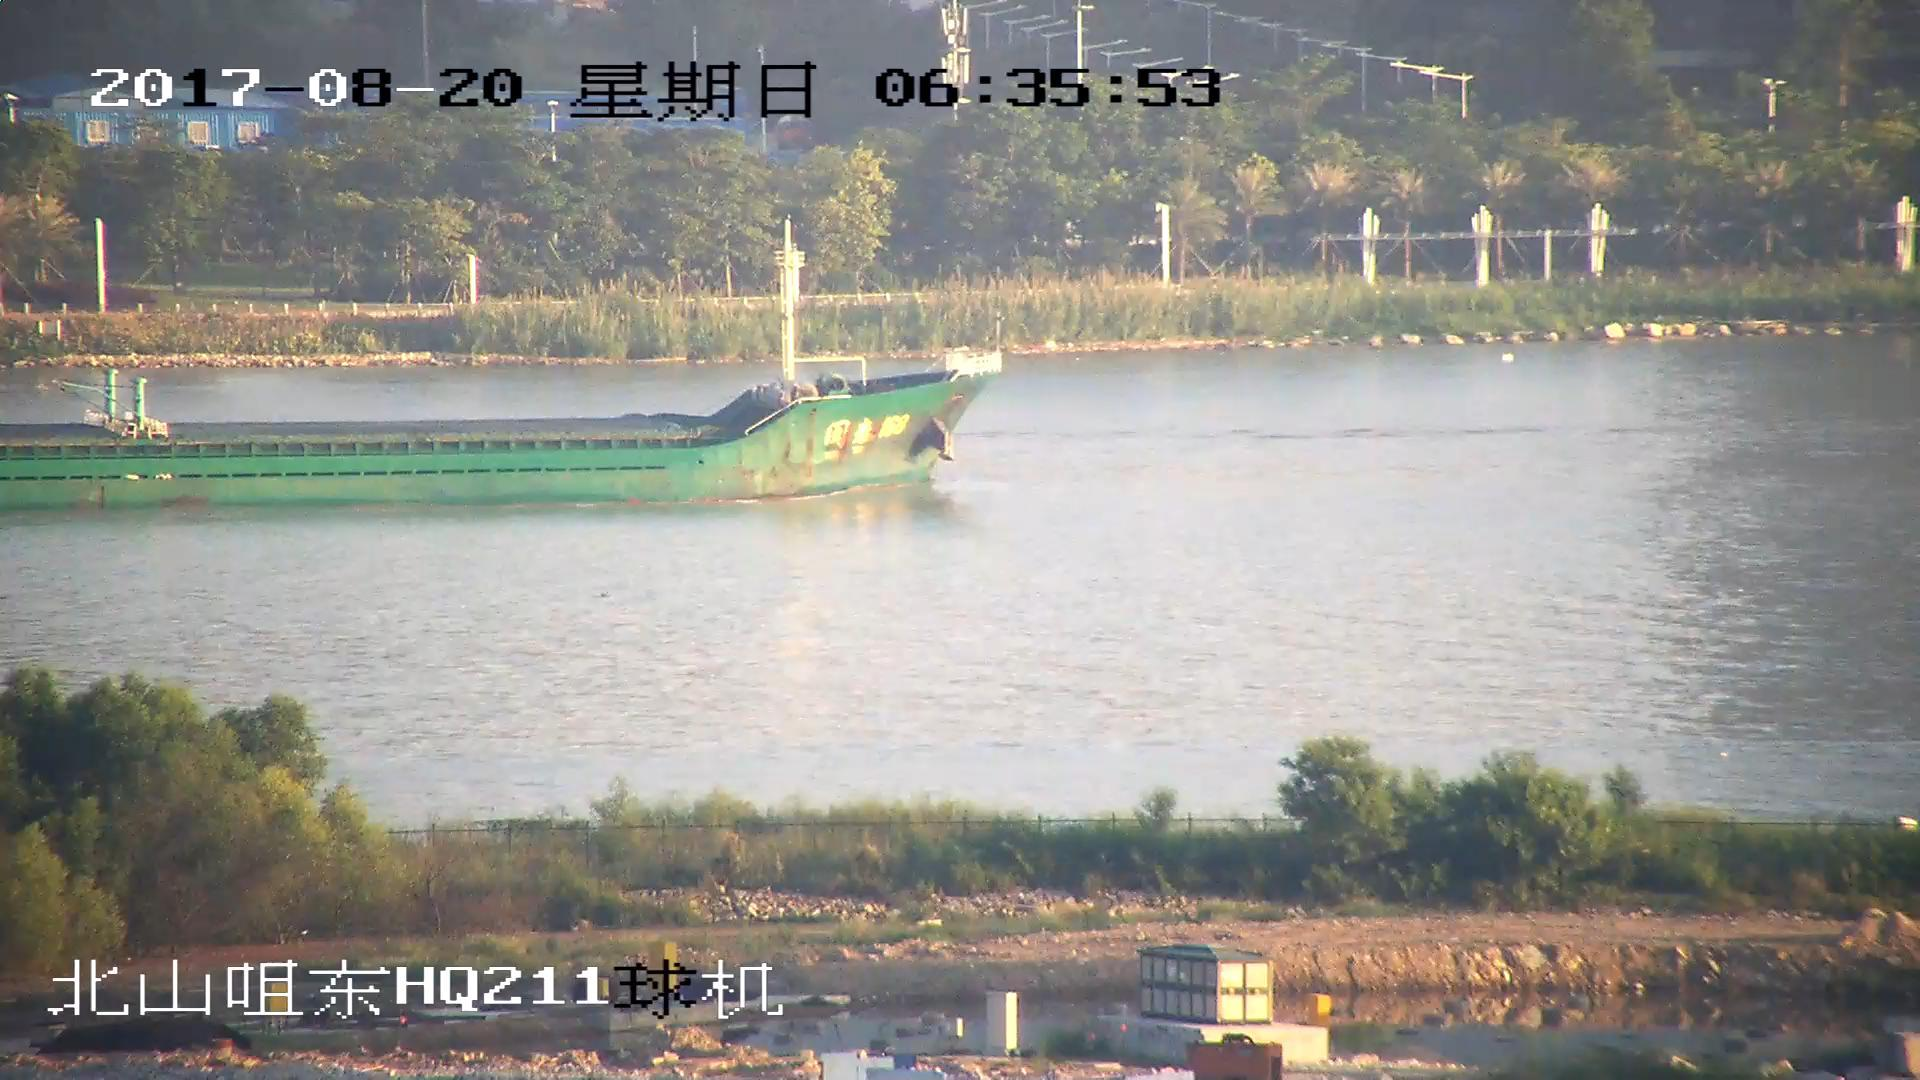Ship: (3, 239, 1004, 513)
